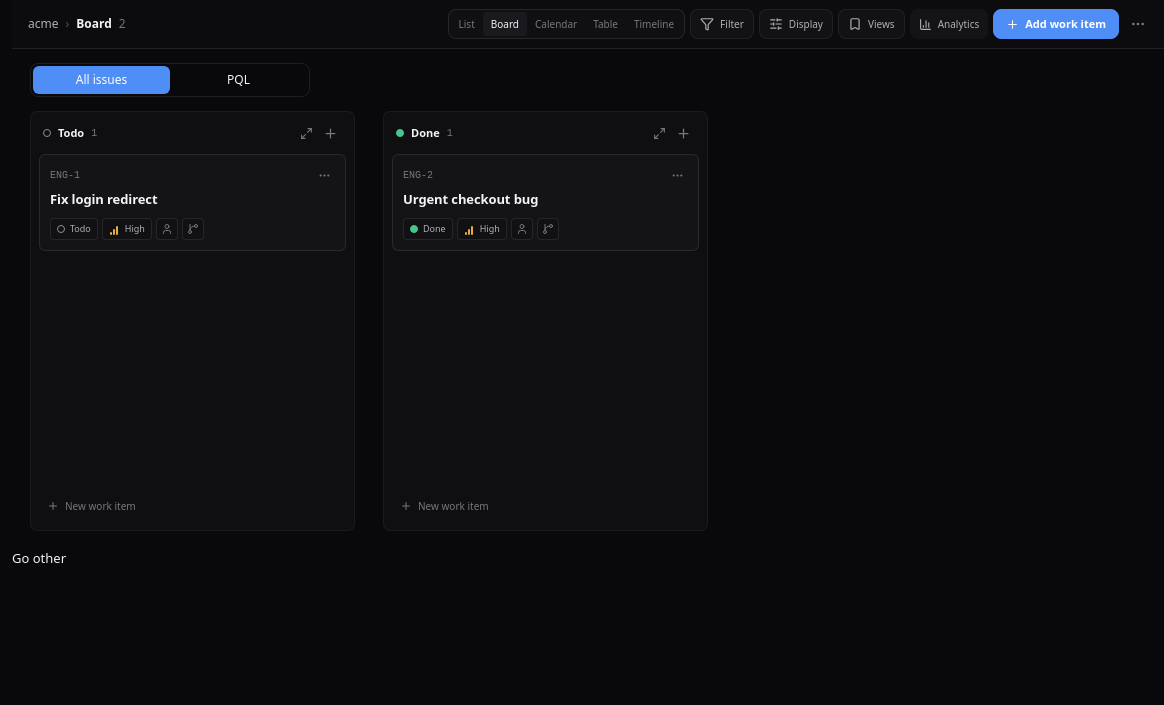
Test: board PQL mode (C96T0) › leaving PQL mode restores the visual board and closes the editor
The image size is (1164, 705).
Expected: the text "Fix login redirect" is shown, 50,190 -> 157,208
Expected: the text "Urgent checkout bug" is shown, 403,190 -> 538,208
Click the button "PQL".
click(238, 80)  # box 170,66 -> 307,94
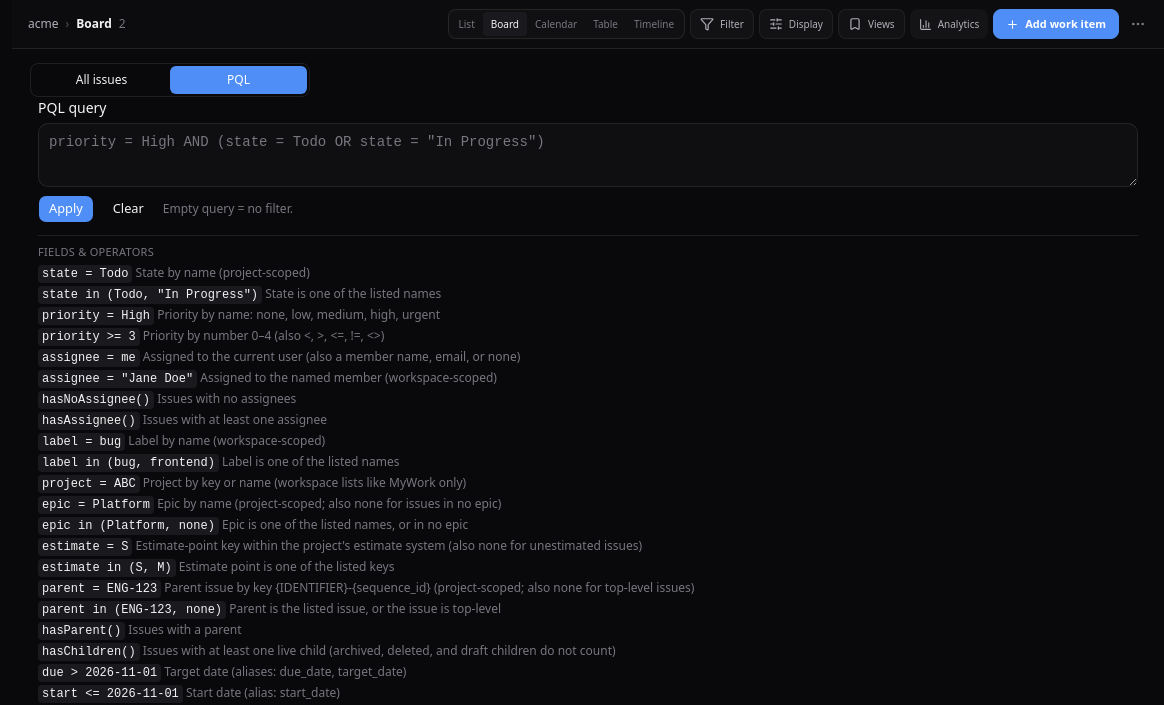
Expected: the text box labelled "PQL query" is shown
Type "priority = High" into the text box labelled "PQL query".
click(588, 155); type("priority = High")  # box 38,123 -> 1138,187
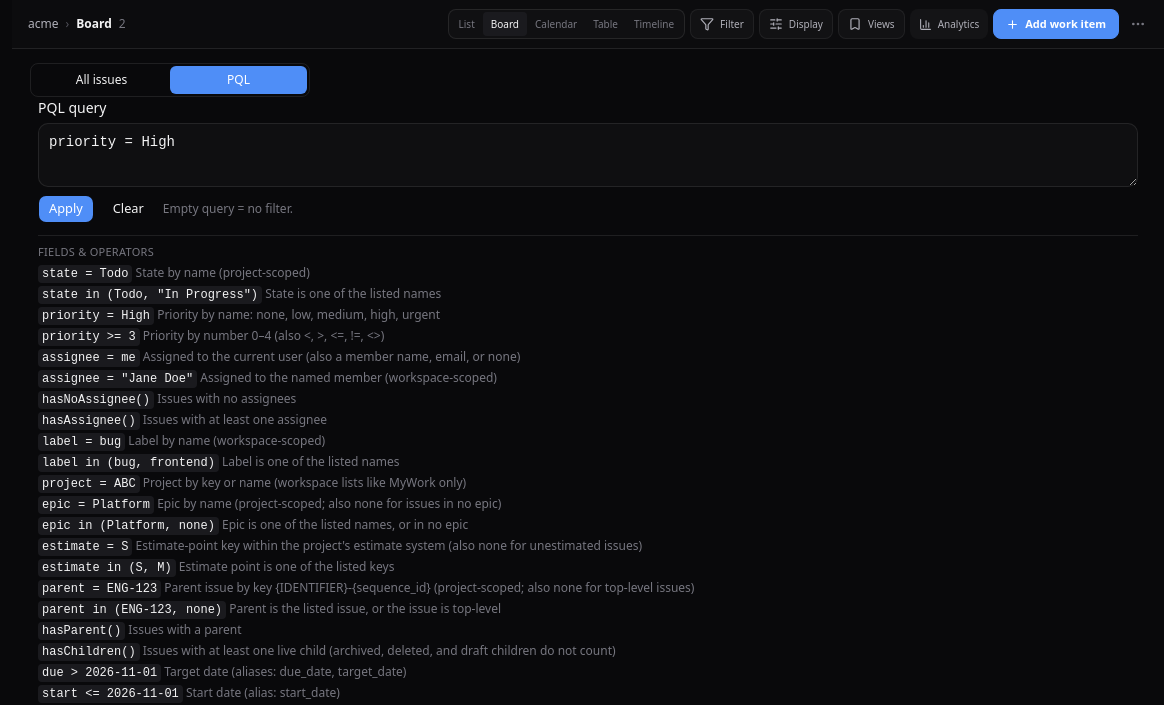
Click the button "Apply".
click(66, 209)  # box 38,195 -> 94,223
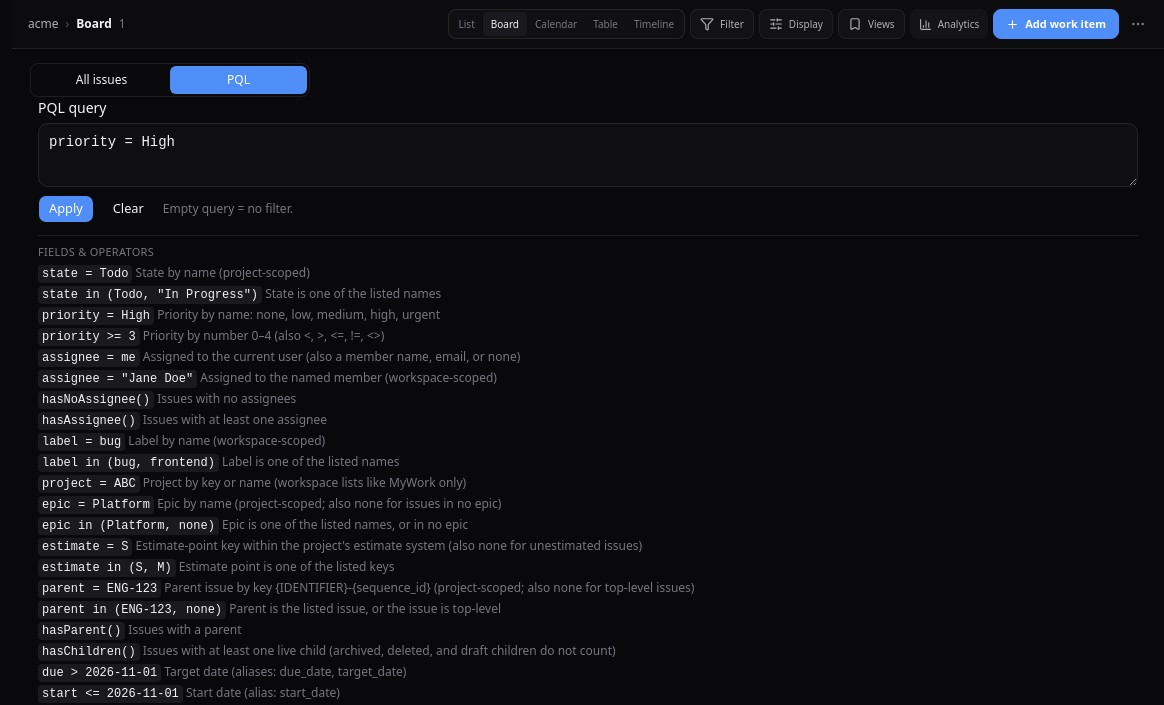
Expected: the button "Fix login redirect" is not shown
Click the button "All issues".
click(102, 80)  # box 33,66 -> 170,94
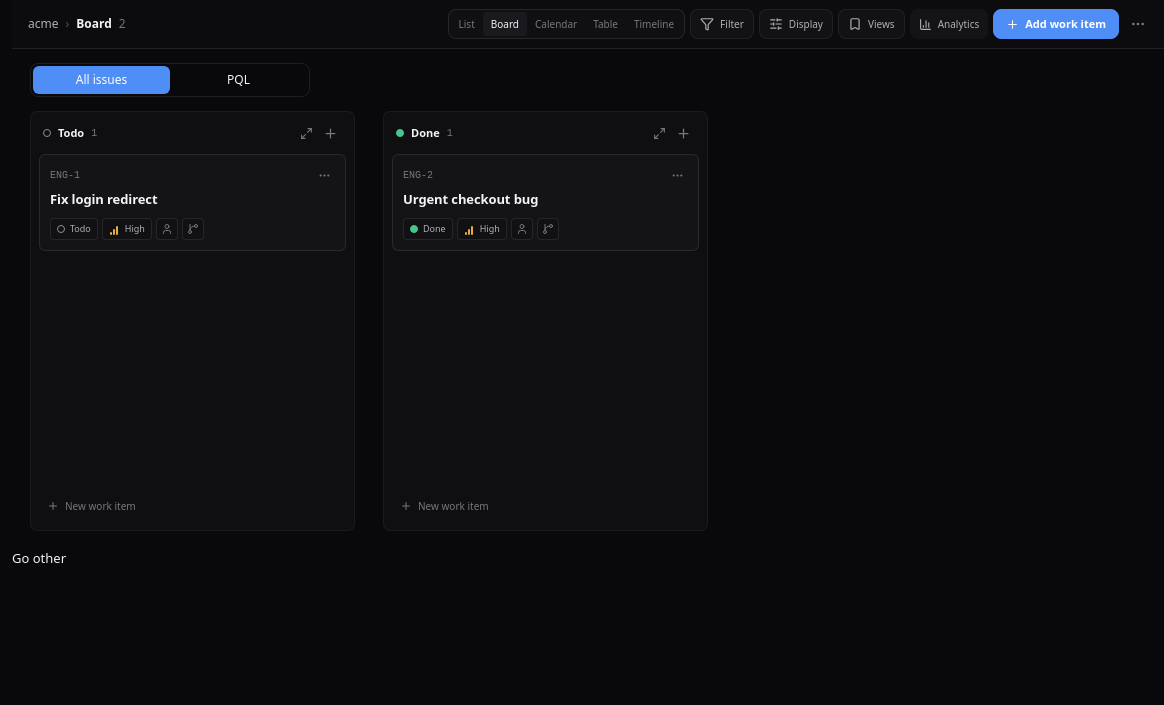
Expected: the text "Urgent checkout bug" is shown, 403,190 -> 538,208
Expected: the text "Fix login redirect" is shown, 50,190 -> 157,208
Expected: the label labelled "PQL query" is gone
